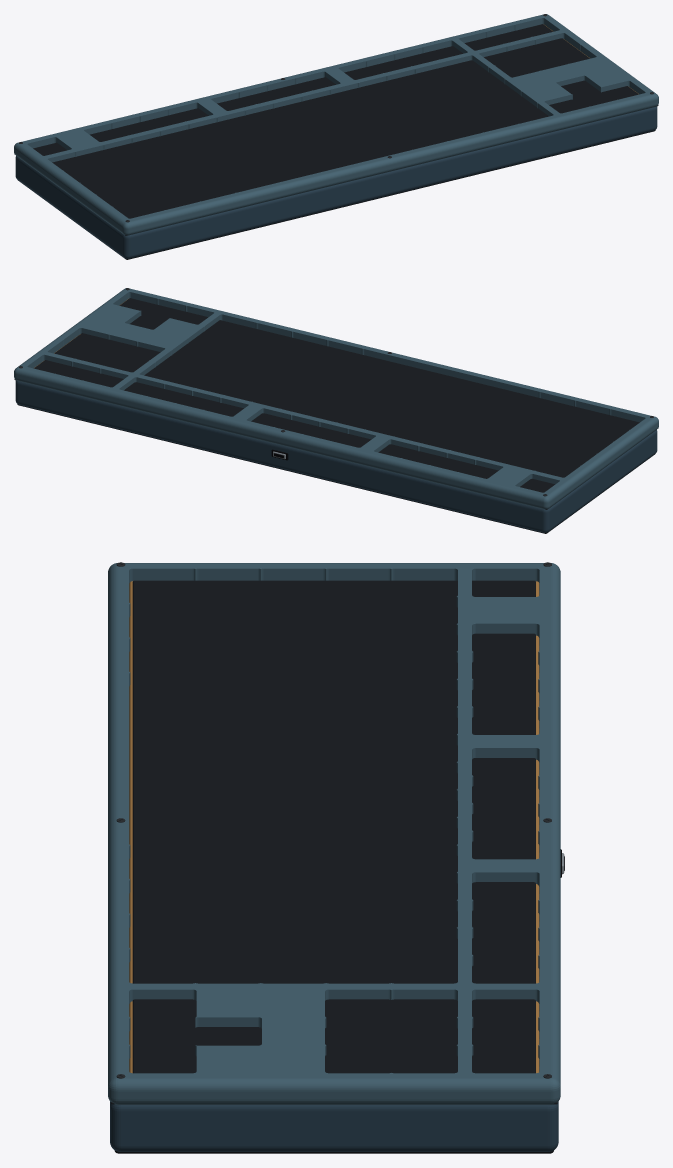
The model's file is ansi-87.glb.
The picture shows the model from 3 angles, top to bottom: view 1: azimuth 30°, elevation 25°; view 2: azimuth 150°, elevation 25°; view 3: azimuth 270°, elevation 25°; orthographic projection. The views are drawn at different scales.
Parts seen in each view (by area): view 1: KeybedShadow, TopFrame, CaseBody, BottomEdge; view 2: KeybedShadow, TopFrame, CaseBody, BottomEdge; view 3: KeybedShadow, TopFrame, CaseBody, Plate, BottomEdge.
Part boxes in pixels (x1,y1,x2,y2): KeybedShadow: [33, 24, 638, 218]; TopFrame: [14, 14, 658, 235]; CaseBody: [15, 106, 657, 258]; BottomEdge: [18, 130, 655, 259]; KeybedShadow: [34, 298, 639, 492]; TopFrame: [14, 288, 658, 509]; CaseBody: [15, 380, 657, 532]; BottomEdge: [17, 404, 654, 533]; KeybedShadow: [132, 580, 535, 1073]; TopFrame: [108, 563, 560, 1104]; CaseBody: [110, 590, 558, 1151]; Plate: [129, 581, 539, 1073]; BottomEdge: [114, 1150, 553, 1153].
Bounding box in the file's own units: 0.3607 × 0.0263 × 0.1333.
